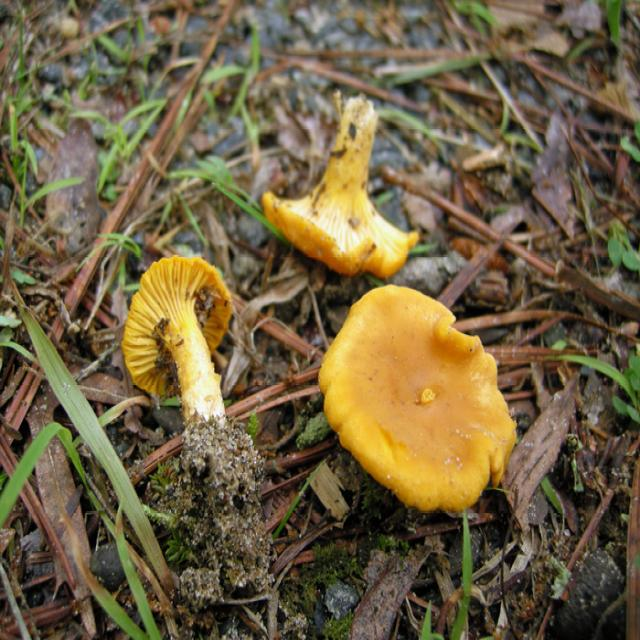chanterelle: (318, 286, 517, 516), (260, 99, 422, 282), (120, 256, 233, 428)
